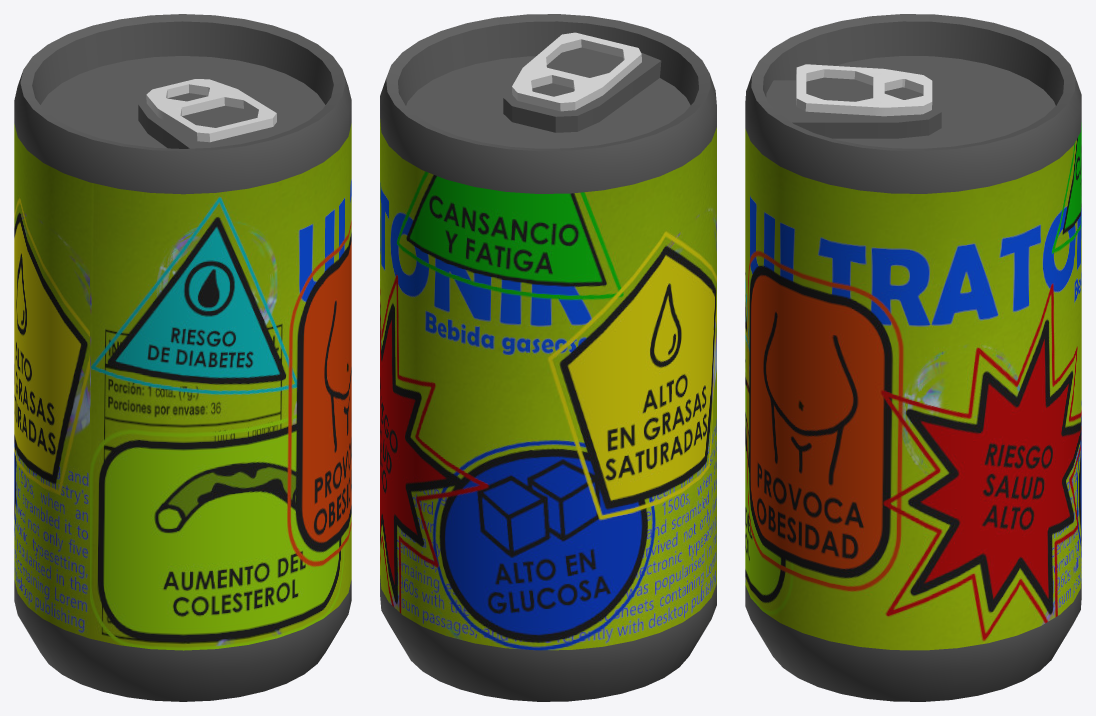
Rendered from Lata_01.fbx.
3 renders of one model, left to right at view 1: azimuth 30°, elevation 25°; view 2: azimuth 150°, elevation 25°; view 3: azimuth 270°, elevation 25°, orthographic.
Parts seen in each view (by area): view 1: lata01; view 2: lata01; view 3: lata01.
Boxes of the visible parts, x1,y1,x2,y2 form: lata01: [14, 14, 351, 701]; lata01: [380, 14, 716, 701]; lata01: [745, 14, 1081, 701].
Bounding box in the file's own units: 194 × 355 × 194.
Materials: 3 (1 with a texture image).
